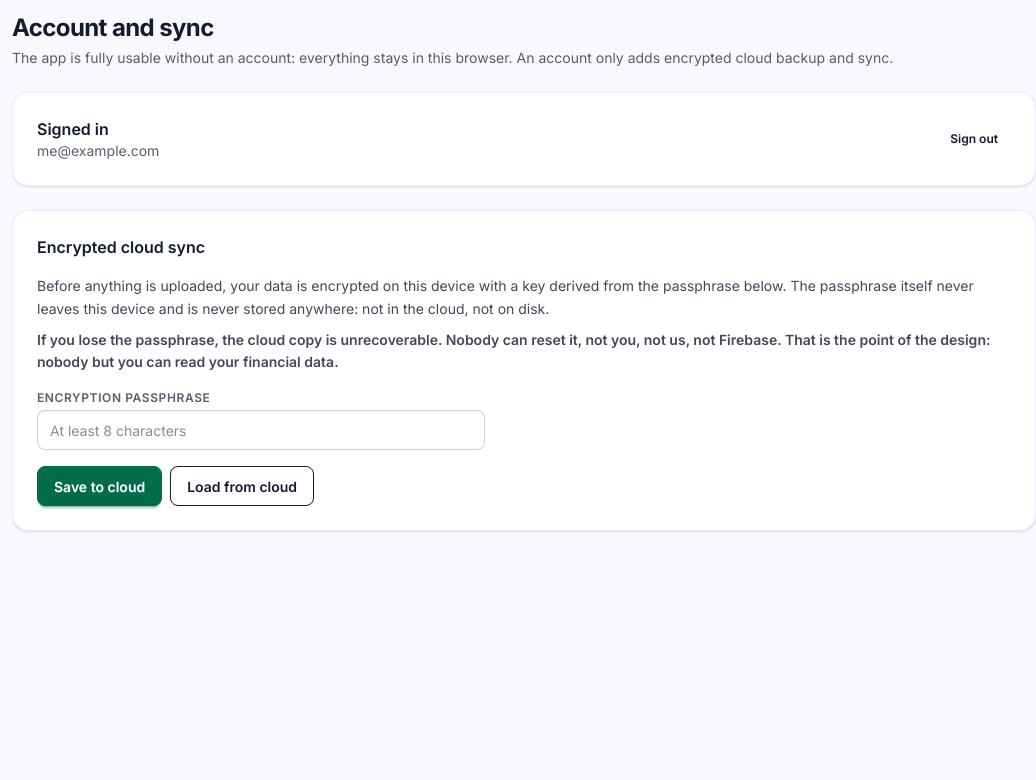
Test case: AccountPage › requires a passphrase before saving
Click the button "Save to cloud" at (100, 486), box [37,466,162,506]
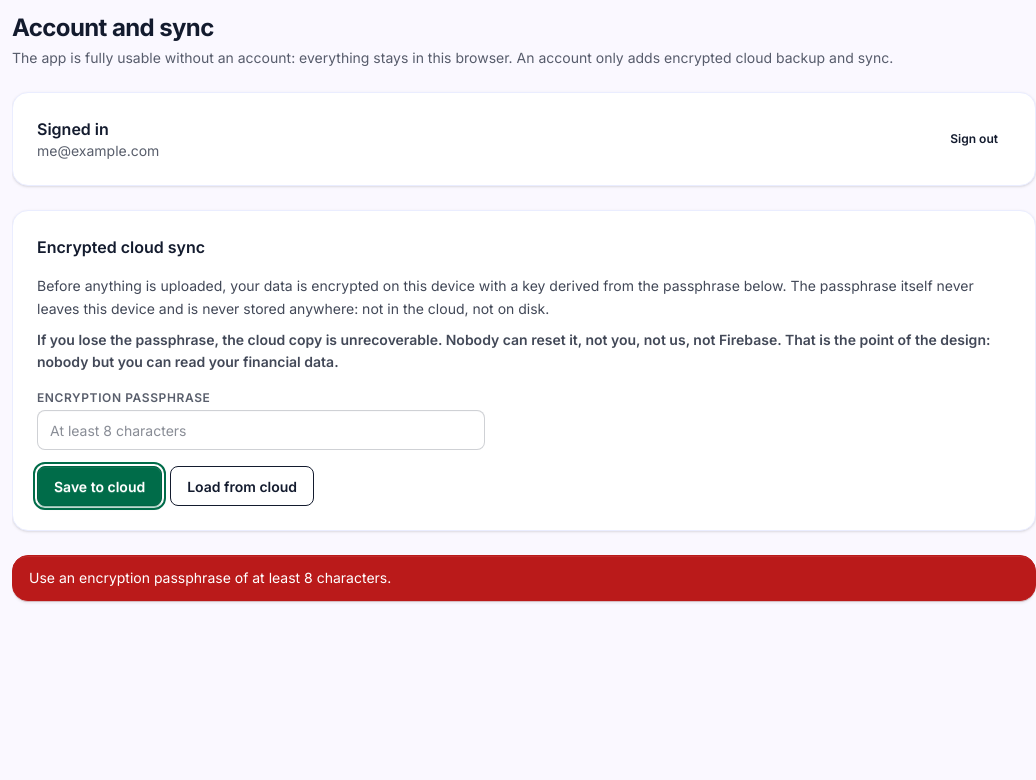
expect the message shows "passphrase": met, box [29,569,391,586]
